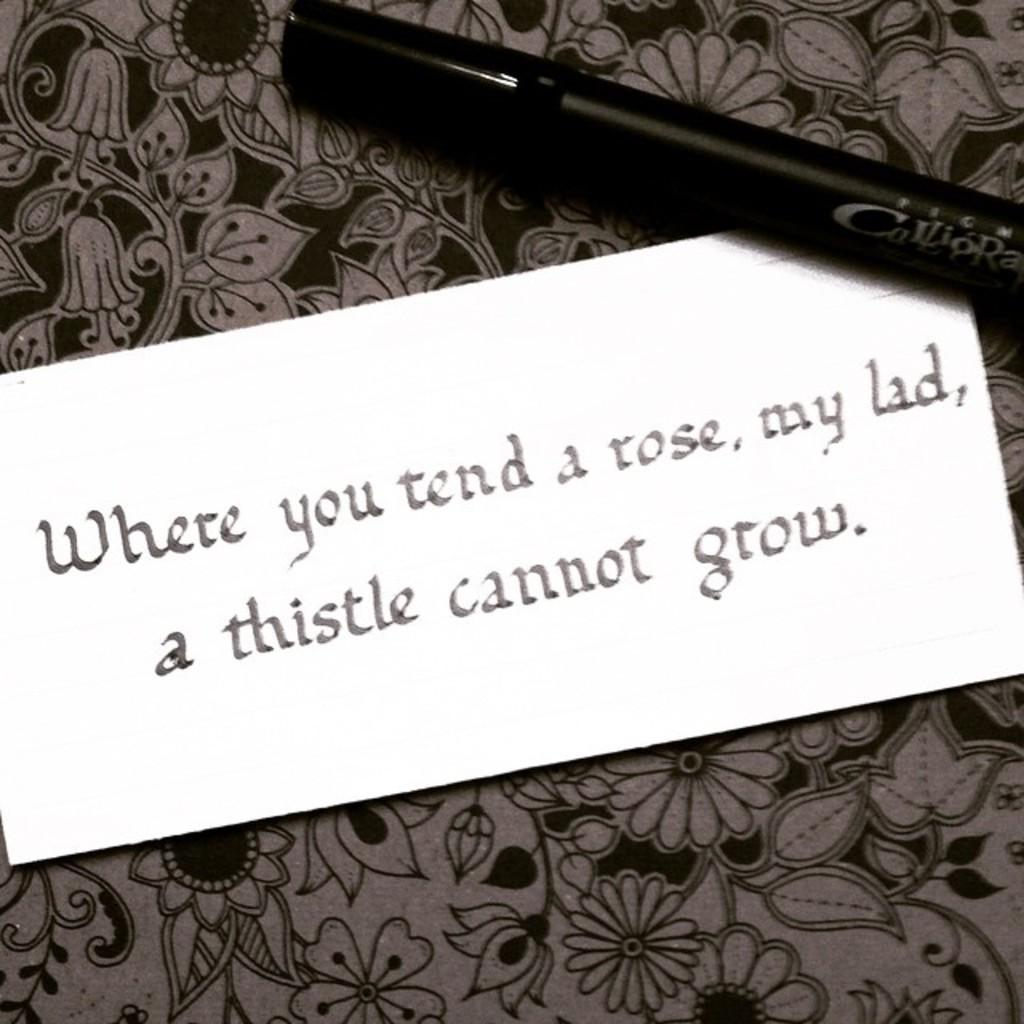pen: (275, 0, 1022, 344)
